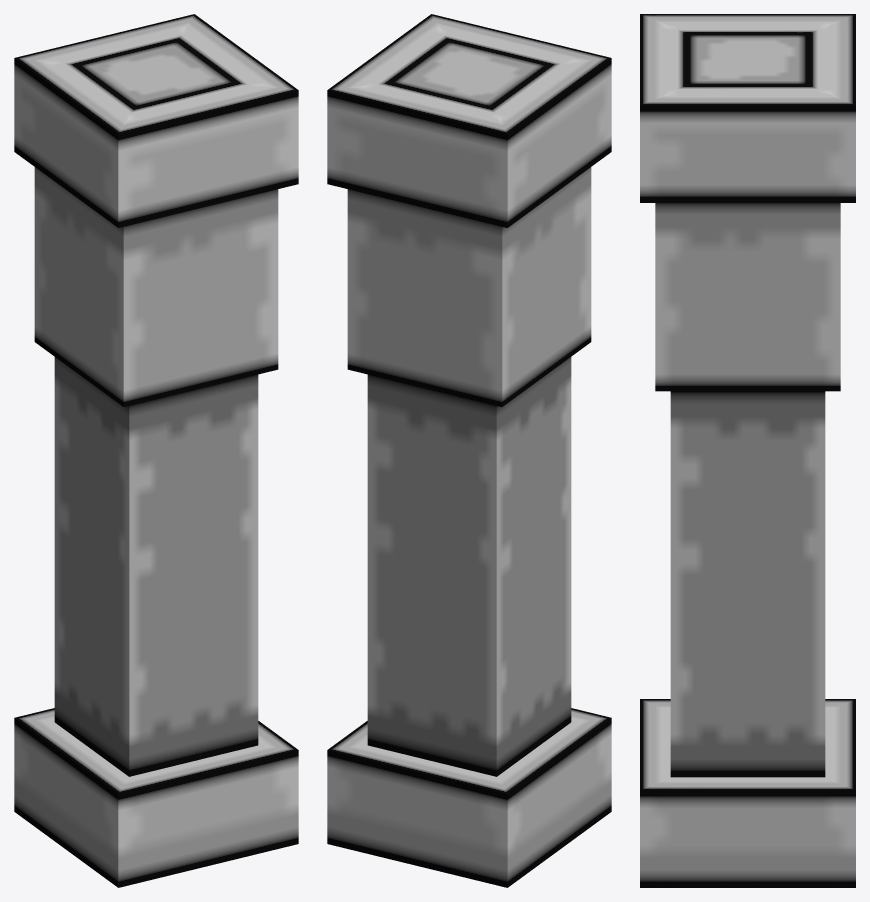
File: arch_pillar_stone.FBX
The picture shows the model from 3 angles, left to right: view 1: azimuth 30°, elevation 25°; view 2: azimuth 150°, elevation 25°; view 3: azimuth 270°, elevation 25°; orthographic projection. The views are drawn at different scales.
Parts seen in each view (by area): view 1: arch_pillar_stone; view 2: arch_pillar_stone; view 3: arch_pillar_stone.
Part boxes in pixels (box(x1,y1,x2,y2)): arch_pillar_stone: box(14, 14, 298, 887); arch_pillar_stone: box(327, 14, 611, 887); arch_pillar_stone: box(640, 14, 855, 887).
Bounding box in the file's own units: 1 × 4 × 1.
1 material, 1 textured.
